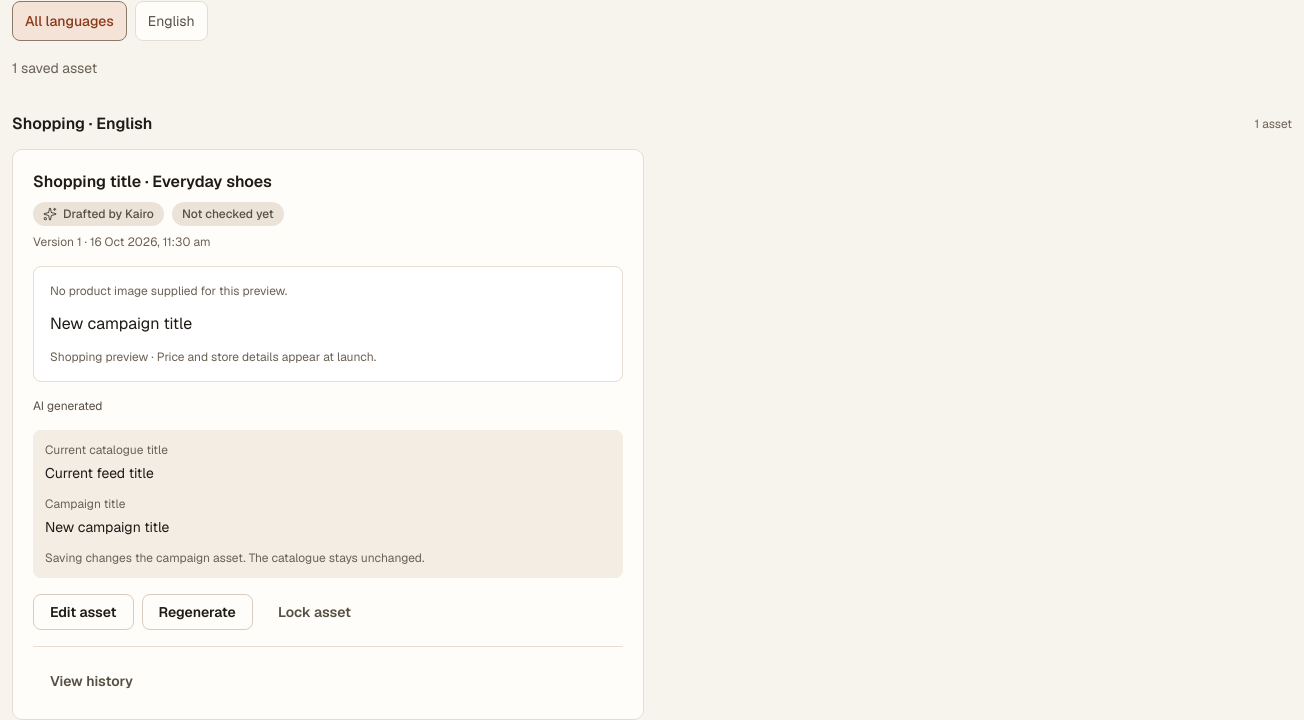
it: success replaces the saved title and clears the editor
This screenshot has width=1304, height=720.
(page scrolled)
Click the button "Edit asset": (83, 612) top-left (33, 594), bottom-right (134, 630)
(page scrolled)
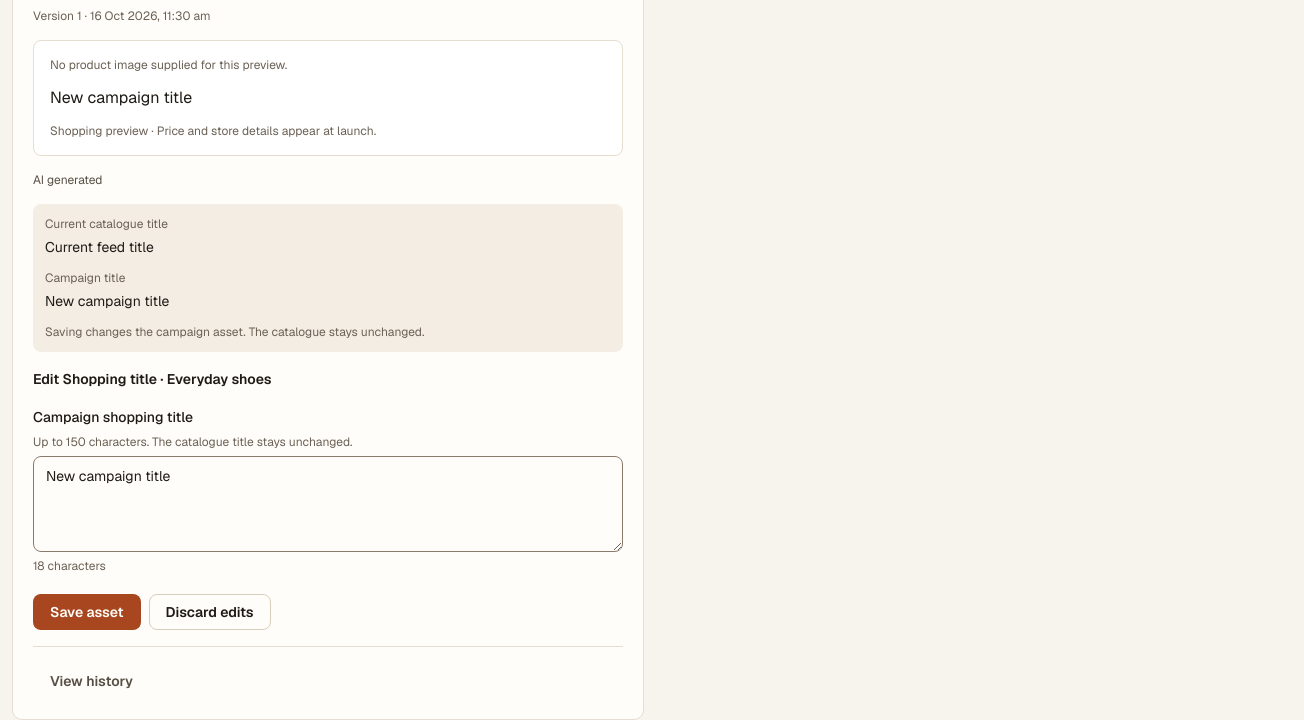
Replace the text in the text box labelled "Campaign shopping title" with "Saved campaign title": (328, 504) top-left (33, 456), bottom-right (623, 552)
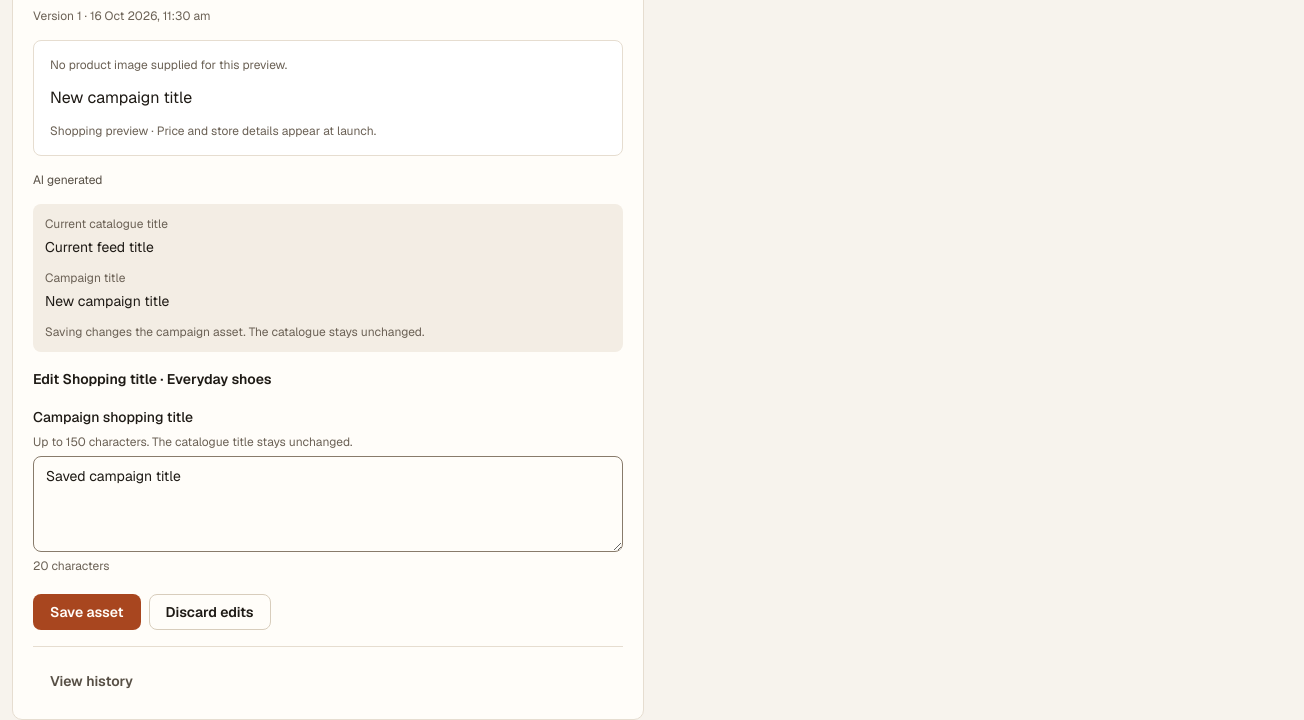
Click the button "Save asset": (87, 612) top-left (33, 594), bottom-right (141, 630)
(page scrolled)
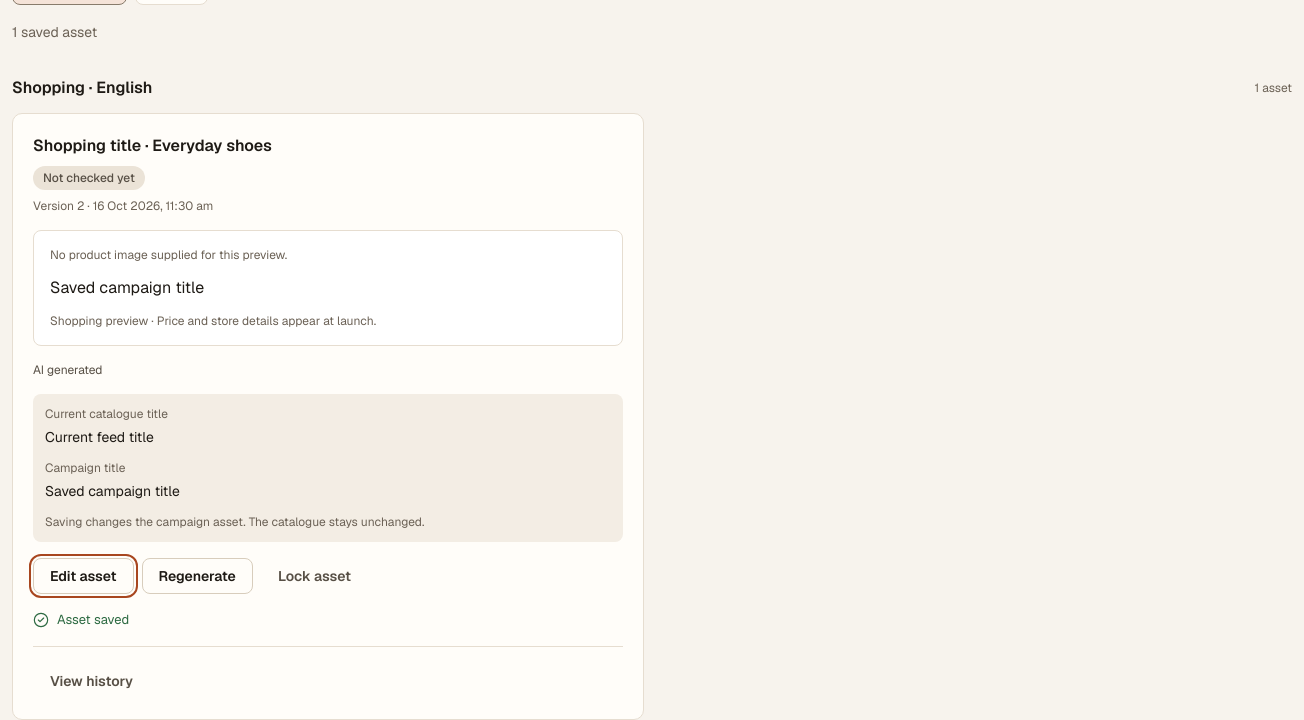
Expected: the text "Saved campaign title" is shown 2 times, top-left (50, 277), bottom-right (204, 298); top-left (45, 482), bottom-right (180, 500)
Expected: the text "Asset saved" is shown, top-left (57, 610), bottom-right (129, 630)
Expected: the label labelled "Campaign shopping title" is gone
